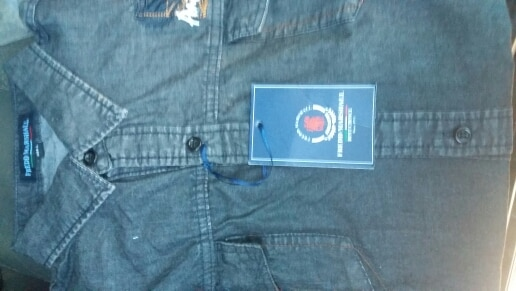shirts: (17, 10, 497, 291)
